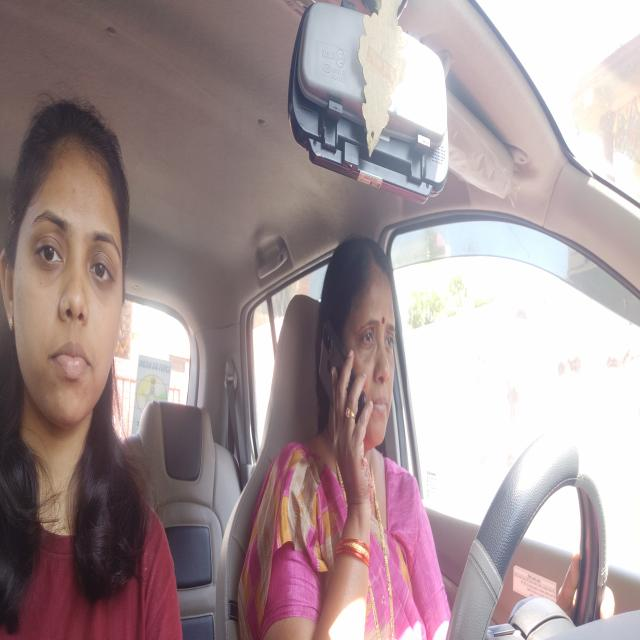mobile: (318, 304, 371, 440)
person: (0, 89, 137, 436), (313, 235, 404, 462)
